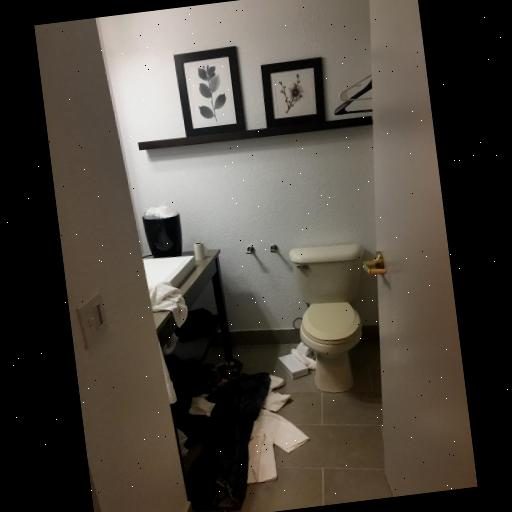disorganized_towel: (146, 278, 190, 333)
mess: (178, 338, 326, 512)
messy_sink: (142, 245, 223, 357)
